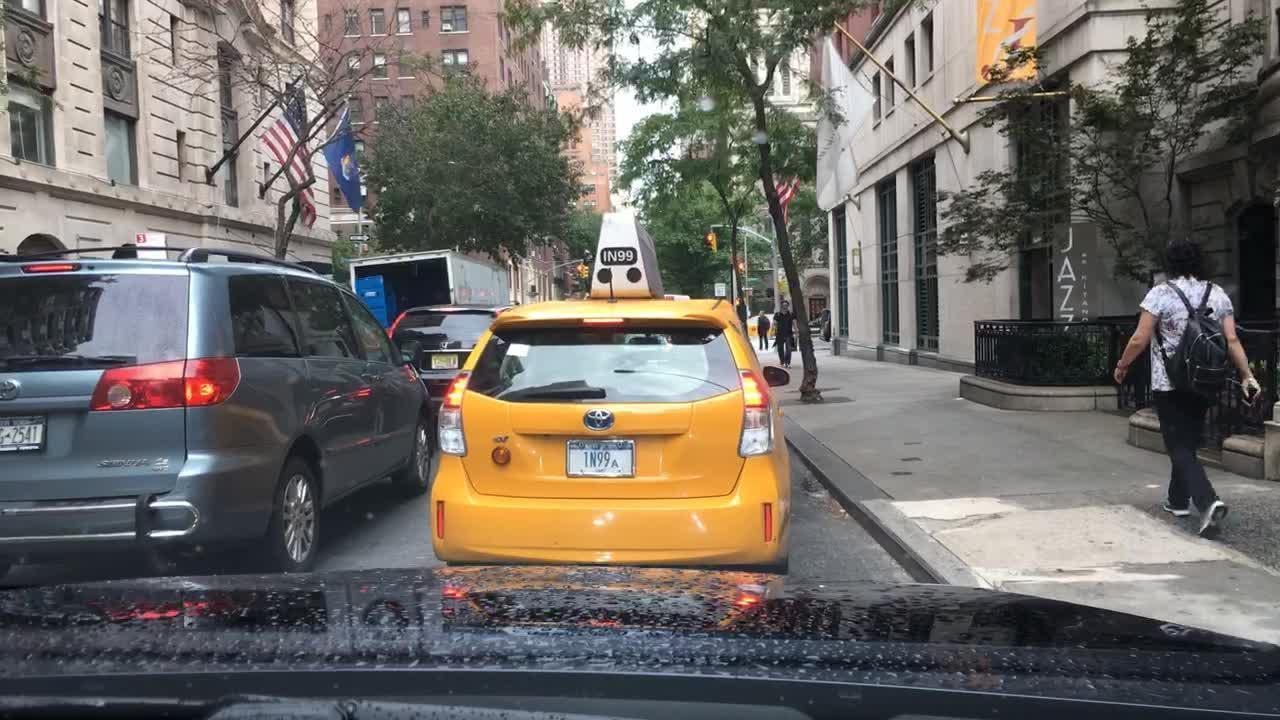Toyota: (581, 407, 623, 436), (0, 372, 32, 407)
